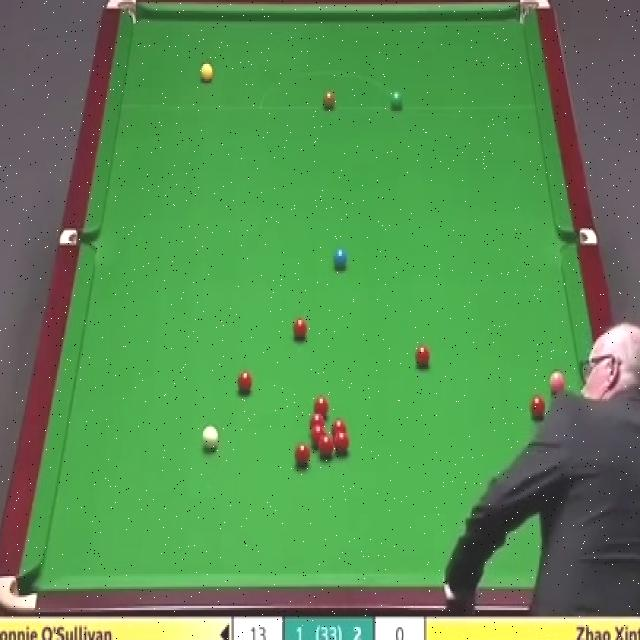blue-ball: (332, 246, 348, 269)
brown-ball: (322, 89, 336, 111)
green-ball: (390, 92, 403, 110)
pink-ball: (549, 369, 566, 396)
red-ball: (236, 369, 254, 398), (530, 395, 548, 421), (293, 442, 310, 468), (333, 432, 350, 458), (416, 343, 431, 370), (292, 318, 308, 341), (319, 434, 333, 458), (312, 396, 330, 414), (311, 427, 325, 446), (310, 412, 324, 429), (332, 421, 346, 435)
white-ball: (202, 424, 219, 451)
yellow-ball: (200, 63, 214, 85)
